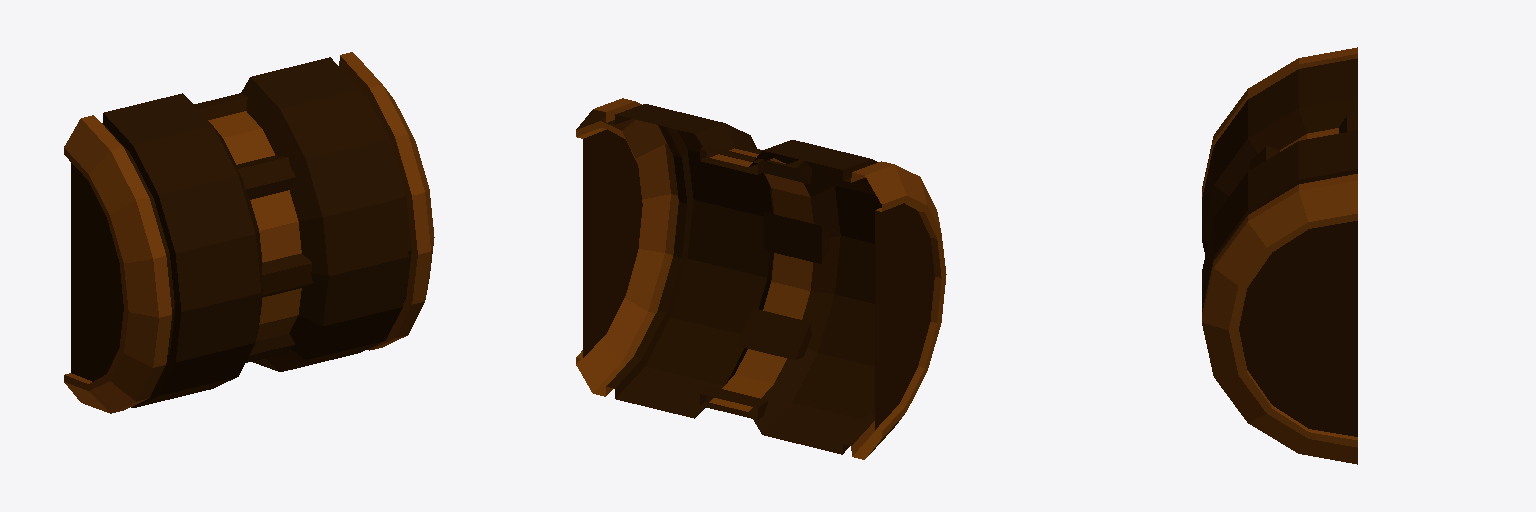
The model's file is Details_Cylinder.obj.
3 renders of one model, left to right at view 1: azimuth 30°, elevation 25°; view 2: azimuth 150°, elevation 25°; view 3: azimuth 270°, elevation 25°, orthographic.
Parts seen in each view (by area): view 1: Details_Cylinder_Cylinder.021; view 2: Details_Cylinder_Cylinder.021; view 3: Details_Cylinder_Cylinder.021.
Boxes of the visible parts, box(x1,y1,x2,y2) form: Details_Cylinder_Cylinder.021: box(64, 52, 434, 413); Details_Cylinder_Cylinder.021: box(576, 98, 946, 459); Details_Cylinder_Cylinder.021: box(1202, 47, 1357, 464).
Size of the model in its own units: 0.4302 by 0.3827 by 0.1909.